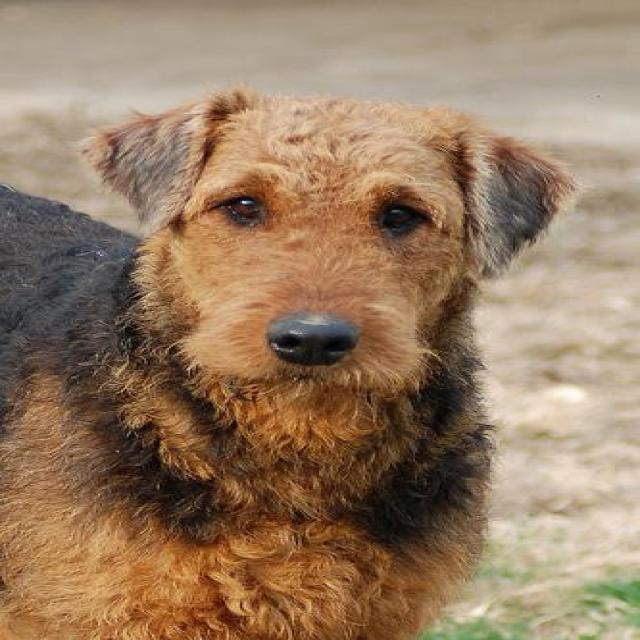airedale: (0, 87, 575, 637)
